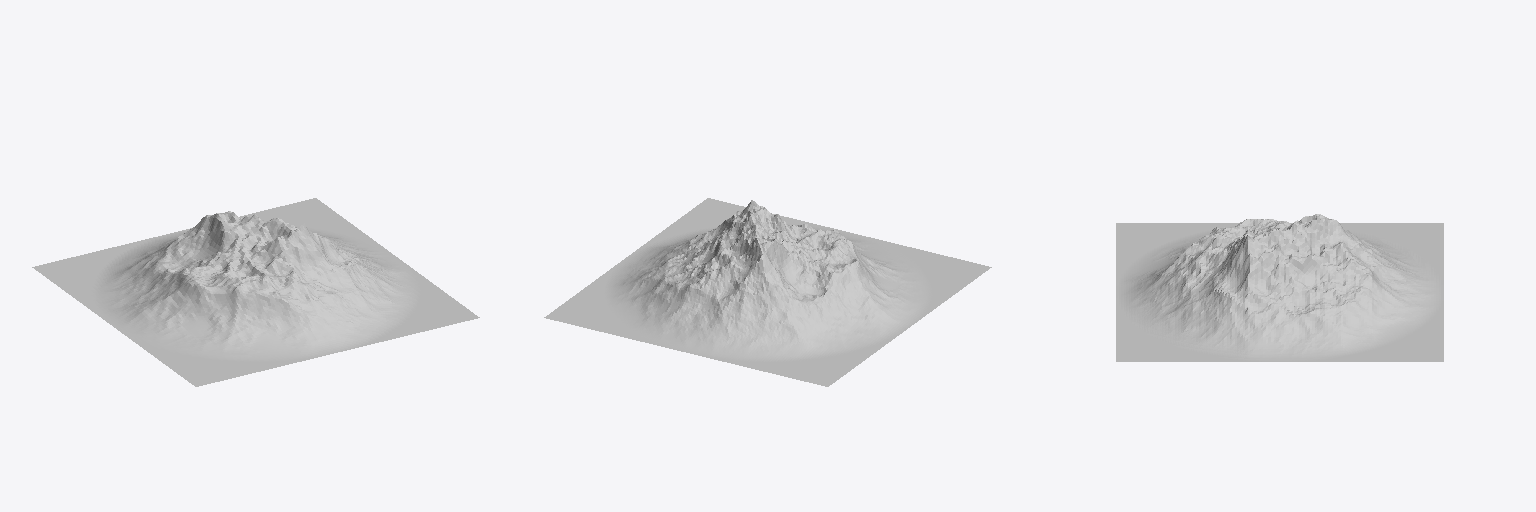
File: Mountain4.obj
3 views of the same model, side by side, from view 1: azimuth 30°, elevation 25°; view 2: azimuth 150°, elevation 25°; view 3: azimuth 270°, elevation 25° (orthographic).
Parts seen in each view (by area): view 1: Mountain4_Landscape.017; view 2: Mountain4_Landscape.017; view 3: Mountain4_Landscape.017.
Boxes of the visible parts, x1,y1,x2,y2 form: Mountain4_Landscape.017: [32, 198, 479, 386]; Mountain4_Landscape.017: [544, 198, 991, 386]; Mountain4_Landscape.017: [1116, 214, 1443, 361].
Bounding box in the file's own units: 16.36 × 4.02 × 16.36.